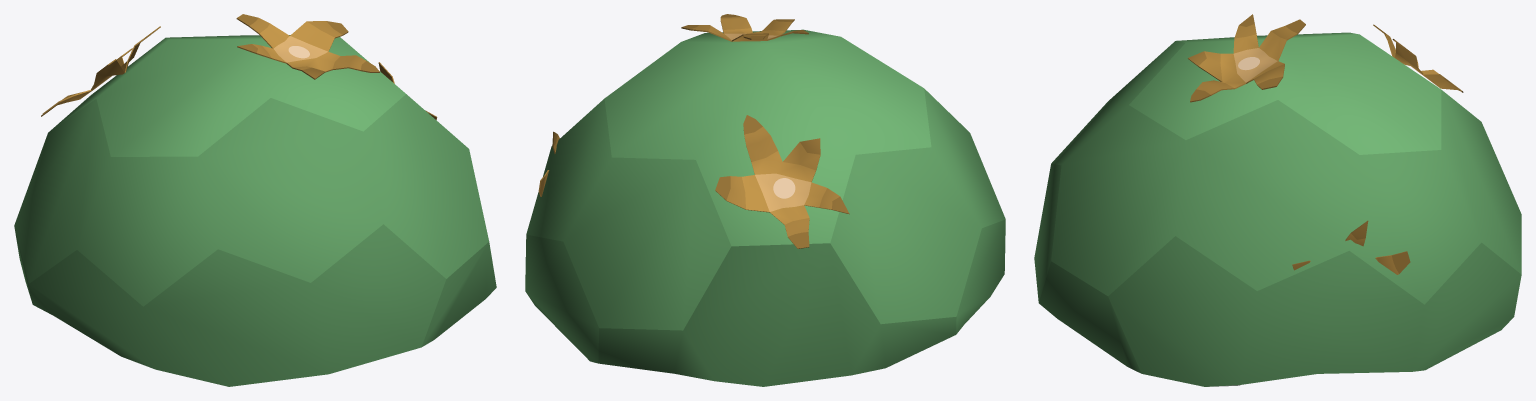
File: orange1.fbx
3 renders of one model, left to right at view 1: azimuth 30°, elevation 25°; view 2: azimuth 150°, elevation 25°; view 3: azimuth 270°, elevation 25°, orthographic. The views are drawn at different scales.
Parts seen in each view (by area): view 1: pSolid1, pasted__pDisc2, pDisc2; view 2: pSolid1, pDisc2, pasted__pDisc2; view 3: pSolid1, pasted__pDisc2 (×2), pDisc2.
Part boxes in pixels (x1,y1,x2,y2): pSolid1: (14,35,496,386); pasted__pDisc2: (236,14,379,79); pDisc2: (41,26,160,116); pSolid1: (525,29,1005,386); pDisc2: (715,115,849,248); pasted__pDisc2: (681,14,808,41); pSolid1: (1034,32,1521,386); pasted__pDisc2 (×2): (1188,14,1410,274); pDisc2: (1373,24,1463,92).
Bounding box in the file's own units: 1.97 × 1.21 × 1.95.
